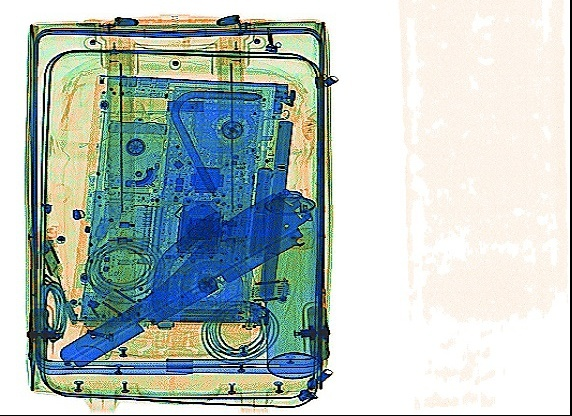pressure: (258, 187, 322, 379)
